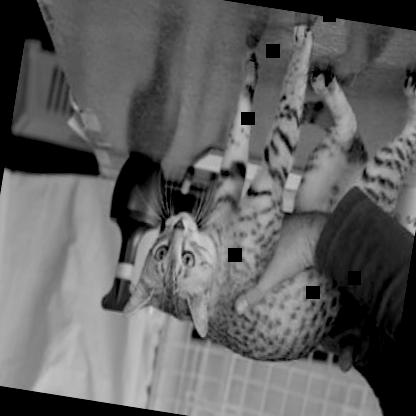cat: (116, 3, 415, 381)
